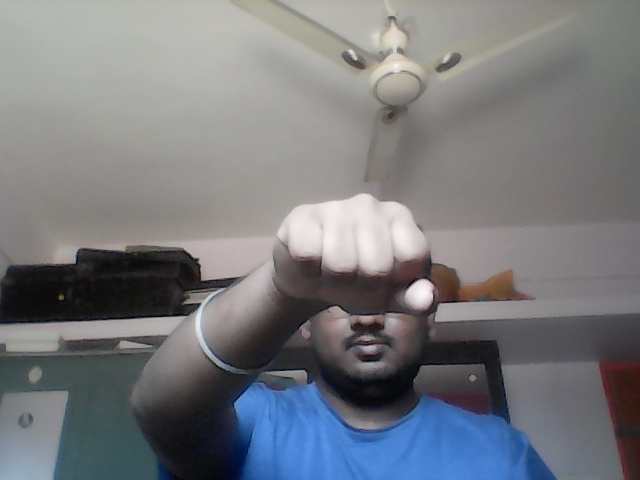Yes: (269, 189, 442, 319)
